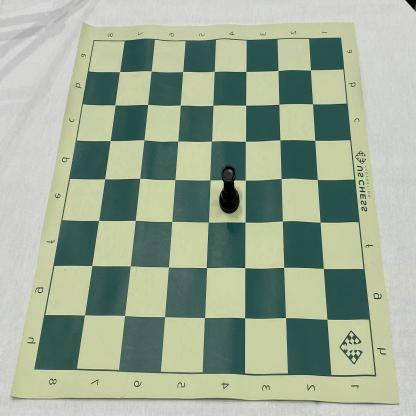black-rook: (218, 164, 240, 216)
